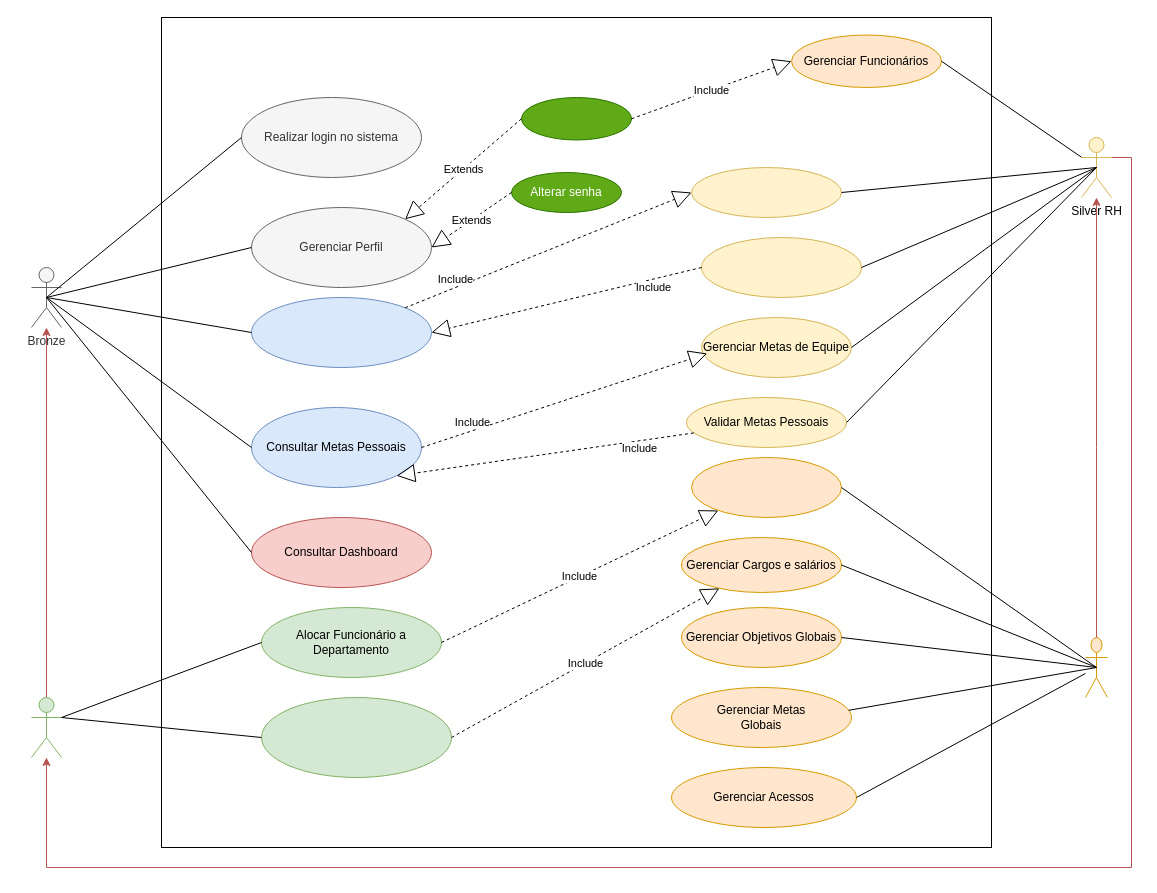
This 1157x893 diagram has some shape labels left out. Each missing label, with the centre of its shape:
"Associar funcionário a Cargos e Salários" goes at pixel 356 737.
"Bronze RH" goes at pixel 46 727.
"Cadastrar Usuário" goes at pixel 576 118.
"Consultar Objetivos Pessoais" goes at pixel 341 332.
"Gerenciar Departamentos" goes at pixel 766 487.
"Gerenciar Objetivos de Equipe" goes at pixel 766 192.
"Golden RH" goes at pixel 1096 667.
"Validar Objetivos Pessoais" goes at pixel 781 267.
